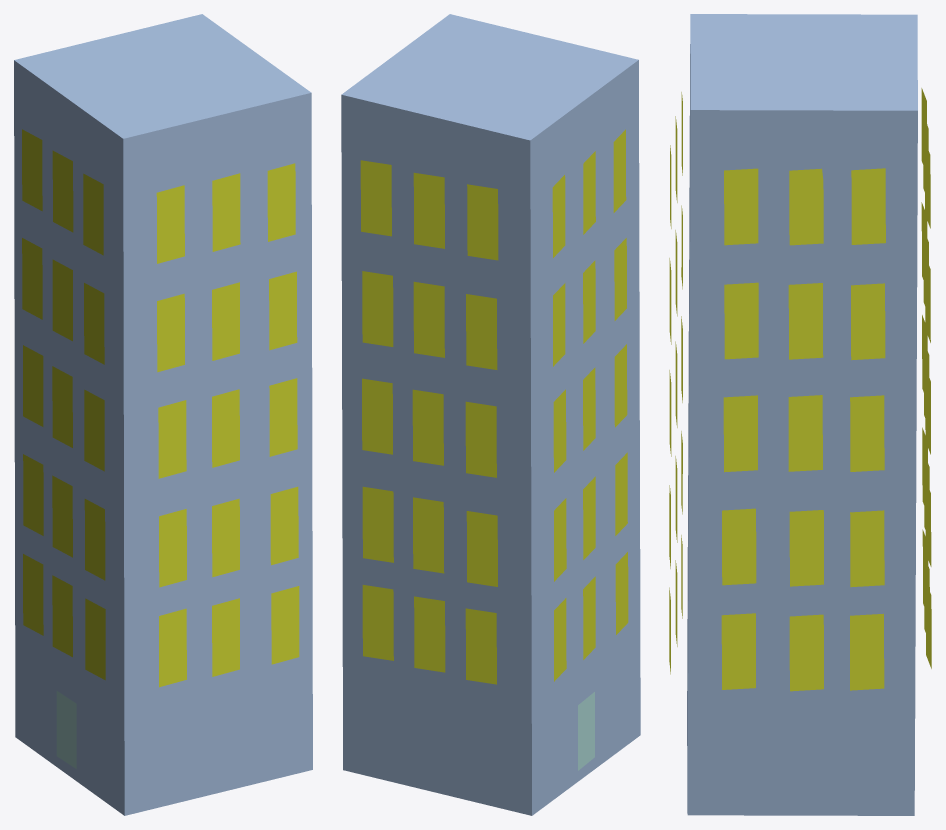
The model's file is Building.fbx.
3 views of the same model, side by side, from view 1: azimuth 30°, elevation 25°; view 2: azimuth 150°, elevation 25°; view 3: azimuth 270°, elevation 25° (orthographic). The views are drawn at different scales.
Visible parts, largest first — view 1: Cube, Plane.048, Plane.053, Plane.014Front.001, Plane.046, Plane.030, Plane.052, Plane.049, Front.001, Plane.014, Plane.031, Plane.050 (+20 smaller); view 2: Cube, Plane.034, Plane.033, Plane.040, Plane.043, Plane.035, Plane.044, Plane.039, Plane.038, Plane.031Left, Plane.045Left, Plane.036 (+20 smaller); view 3: Cube, Plane.019, Plane.027, Plane.022, Plane.023, Plane.028, Plane.030Back, Plane.029, Plane.017, Plane.021, Plane.025, Plane.020 (+5 smaller).
Part boxes in pixels (x1,y1,x2,y2): Cube: (14, 14, 312, 815); Plane.048: (158, 400, 186, 478); Plane.053: (212, 173, 240, 251); Plane.014Front.001: (271, 586, 299, 664); Plane.046: (269, 378, 297, 456); Plane.030: (270, 486, 298, 565); Plane.052: (267, 163, 295, 241); Plane.049: (269, 271, 297, 350); Front.001: (156, 185, 184, 263); Plane.014: (212, 598, 239, 676); Plane.031: (212, 498, 239, 577); Plane.050: (212, 282, 239, 360); Cube: (341, 14, 640, 815); Plane.034: (362, 271, 393, 346); Plane.033: (467, 184, 498, 260); Plane.040: (362, 486, 393, 562); Plane.043: (362, 585, 393, 660); Plane.035: (413, 281, 444, 357); Plane.044: (414, 596, 445, 672); Plane.039: (465, 401, 496, 477); Plane.038: (412, 389, 443, 465); Plane.031Left: (360, 160, 391, 236); Plane.045Left: (465, 608, 496, 684); Plane.036: (466, 294, 497, 369); Cube: (687, 14, 917, 815); Plane.019: (850, 510, 884, 587); Plane.027: (724, 282, 758, 359); Plane.022: (850, 395, 884, 471); Plane.023: (788, 395, 822, 471); Plane.028: (851, 168, 885, 244); Plane.030Back: (724, 168, 758, 245); Plane.029: (789, 168, 823, 245); Plane.017: (789, 614, 823, 691); Plane.021: (722, 508, 756, 585); Plane.025: (851, 283, 885, 360); Plane.020: (789, 510, 823, 586).
Size of the model in its own units: 218 by 686 by 231.
